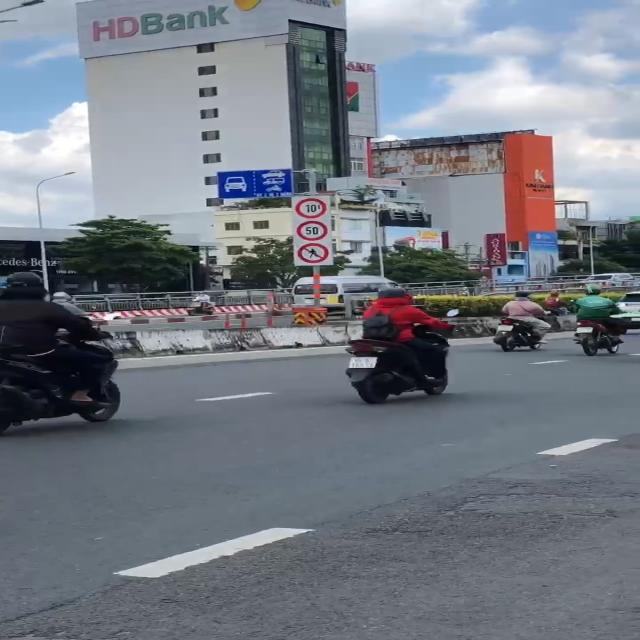Bien bao cam nguoi di bo: (296, 240, 331, 263)
Bien bao toc do toi da cho phep: (296, 220, 332, 241)
